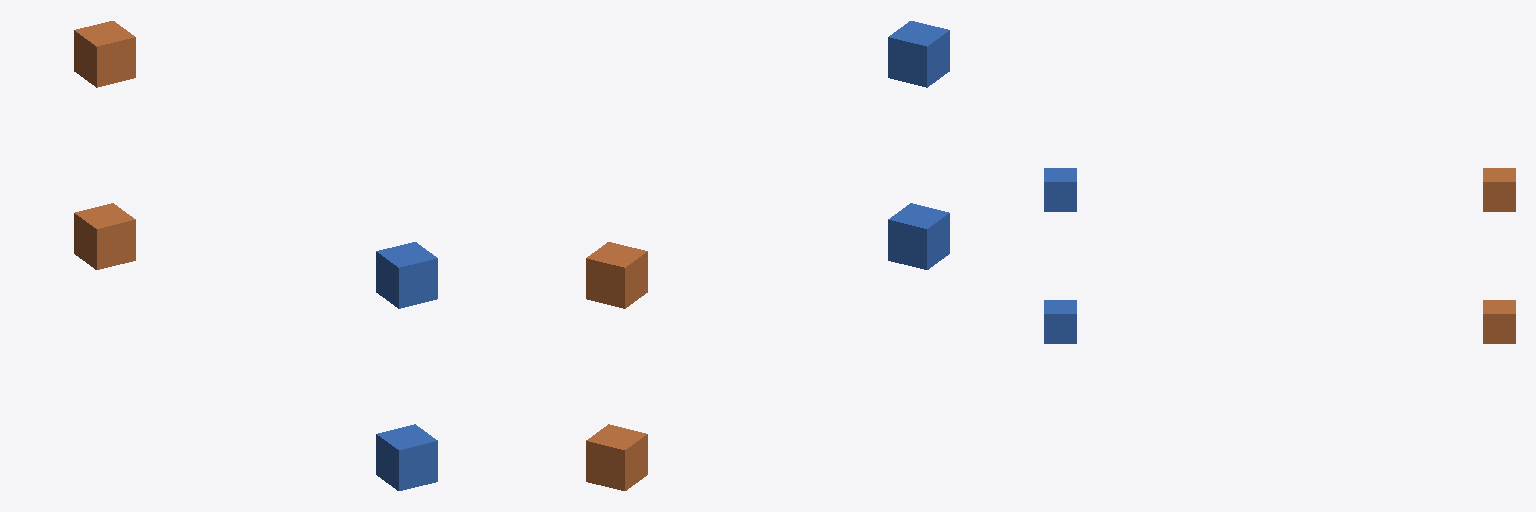
The robot description file, URDF, robot "band_gripper":
<?xml version="1.0"?>
<robot name="band_gripper">
    <!-- Base link (fixed reference point at origin) -->
    <link name="base_link">
        <visual>
            <geometry>
                <box size="0.001 0.001 0.001"/>
            </geometry>
        </visual>
    </link>

    <!-- Left Top Gripper -->
    <link name="left_top_gripper">
        <inertial>
            <origin xyz="0 0 0"/>
            <mass value="0.2"/>
            <inertia ixx="0.0001" ixy="0" ixz="0" iyy="0.0001" iyz="0" izz="0.0001"/>
        </inertial>
        <visual>
            <origin xyz="0 0 0"/>
            <geometry>
                <box size="0.09 0.09 0.09"/>
            </geometry>
            <material name="blue">
                <color rgba="0.3 0.5 0.8 1.0"/>
            </material>
        </visual>
        <collision>
            <origin xyz="0 0 0"/>
            <geometry>
                <box size="0.09 0.09 0.09"/>
            </geometry>
        </collision>
    </link>

    <joint name="left_top_joint" type="floating">
        <parent link="base_link"/>
        <child link="left_top_gripper"/>
        <origin xyz="0.0 -0.600 0.20" rpy="0 0 0"/>
    </joint>

    <!-- Left Bottom Gripper -->
    <link name="left_bottom_gripper">
        <inertial>
            <origin xyz="0 0 0"/>
            <mass value="0.2"/>
            <inertia ixx="0.0001" ixy="0" ixz="0" iyy="0.0001" iyz="0" izz="0.0001"/>
        </inertial>
        <visual>
            <origin xyz="0 0 0"/>
            <geometry>
                <box size="0.09 0.09 0.09"/>
            </geometry>
            <material name="blue">
                <color rgba="0.3 0.5 0.8 1.0"/>
            </material>
        </visual>
        <collision>
            <origin xyz="0 0 0"/>
            <geometry>
                <box size="0.09 0.09 0.09"/>
            </geometry>
        </collision>
    </link>

    <joint name="left_bottom_joint" type="floating">
        <parent link="base_link"/>
        <child link="left_bottom_gripper"/>
        <origin xyz="0.0 -0.600 -0.20" rpy="0 0 0"/>
    </joint>

    <!-- Right Top Gripper -->
    <link name="right_top_gripper">
        <inertial>
            <origin xyz="0 0 0"/>
            <mass value="0.2"/>
            <inertia ixx="0.0001" ixy="0" ixz="0" iyy="0.0001" iyz="0" izz="0.0001"/>
        </inertial>
        <visual>
            <origin xyz="0 0 0"/>
            <geometry>
                <box size="0.09 0.09 0.09"/>
            </geometry>
            <material name="orange">
                <color rgba="0.8 0.5 0.3 1.0"/>
            </material>
        </visual>
        <collision>
            <origin xyz="0 0 0"/>
            <geometry>
                <box size="0.09 0.09 0.09"/>
            </geometry>
        </collision>
    </link>

    <joint name="right_top_joint" type="floating">
        <parent link="base_link"/>
        <child link="right_top_gripper"/>
        <origin xyz="0.0 0.600 0.20" rpy="0 0 0"/>
    </joint>

    <!-- Right Bottom Gripper -->
    <link name="right_bottom_gripper">
        <inertial>
            <origin xyz="0 0 0"/>
            <mass value="0.2"/>
            <inertia ixx="0.0001" ixy="0" ixz="0" iyy="0.0001" iyz="0" izz="0.0001"/>
        </inertial>
        <visual>
            <origin xyz="0 0 0"/>
            <geometry>
                <box size="0.09 0.09 0.09"/>
            </geometry>
            <material name="orange">
                <color rgba="0.8 0.5 0.3 1.0"/>
            </material>
        </visual>
        <collision>
            <origin xyz="0 0 0"/>
            <geometry>
                <box size="0.09 0.09 0.09"/>
            </geometry>
        </collision>
    </link>

    <joint name="right_bottom_joint" type="floating">
        <parent link="base_link"/>
        <child link="right_bottom_gripper"/>
        <origin xyz="0.0 0.600 -0.20" rpy="0 0 0"/>
    </joint>

</robot>

--- Facts derived from the render (not from the file) ---
Views: 3 orthographic renders of the robot side by side, from view 1: azimuth 30°, elevation 25°; view 2: azimuth 150°, elevation 25°; view 3: azimuth 270°, elevation 25°.
Robot: band_gripper — 5 links, 4 joints (4 floating); root link base_link; default pose: all joints at 0.
Visible links, largest first — view 1: left_top_gripper, right_bottom_gripper, left_bottom_gripper, right_top_gripper; view 2: left_bottom_gripper, right_top_gripper, left_top_gripper, right_bottom_gripper; view 3: left_top_gripper, left_bottom_gripper, right_top_gripper, right_bottom_gripper.
Link boxes in pixels (box(x1,y1,x2,y2)): left_top_gripper: box(376, 242, 437, 308); right_bottom_gripper: box(74, 203, 135, 269); left_bottom_gripper: box(376, 424, 437, 490); right_top_gripper: box(74, 21, 135, 87); left_bottom_gripper: box(888, 203, 949, 269); right_top_gripper: box(586, 242, 647, 308); left_top_gripper: box(888, 21, 949, 87); right_bottom_gripper: box(586, 424, 647, 490); left_top_gripper: box(1044, 168, 1076, 211); left_bottom_gripper: box(1044, 300, 1076, 343); right_top_gripper: box(1483, 168, 1515, 211); right_bottom_gripper: box(1483, 300, 1515, 343).
Bounding box of the posed robot: 0.09 × 1.29 × 0.49 m (x, y, z).
Geometry: primitives only (box / cylinder / sphere), no mesh files.